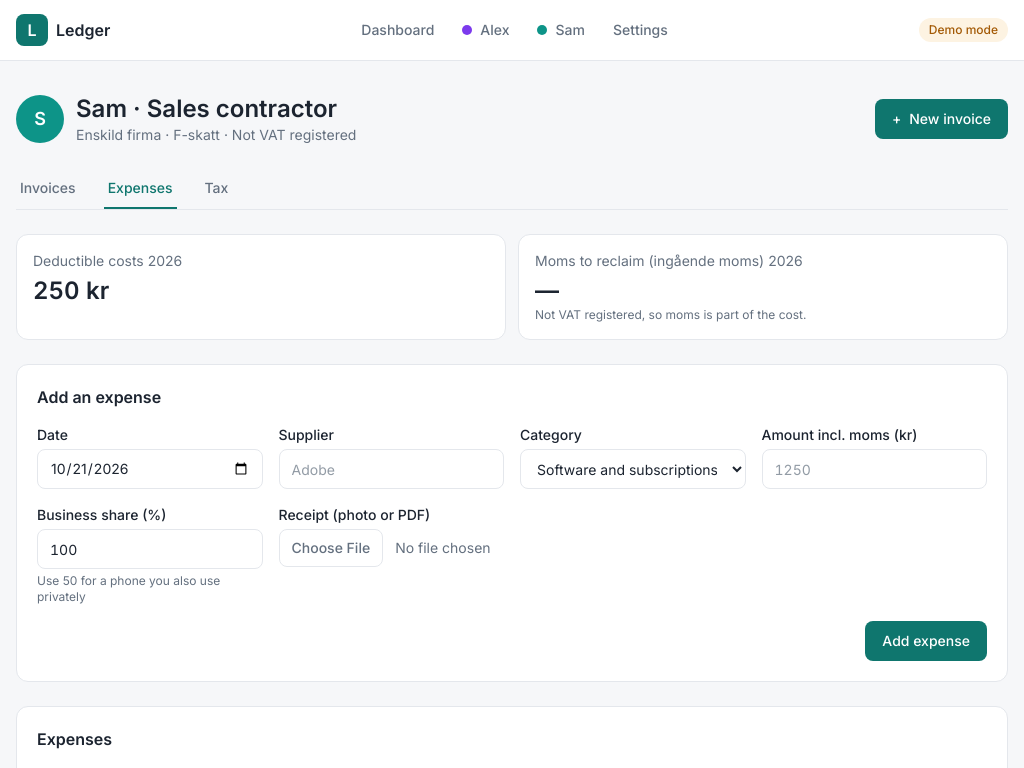
Test: Expenses page › does not reclaim moms for someone who is not VAT registered
Type "Ikea" into the field labelled "Supplier".
click(391, 469); type("Ikea")  # box 278,449 -> 504,489
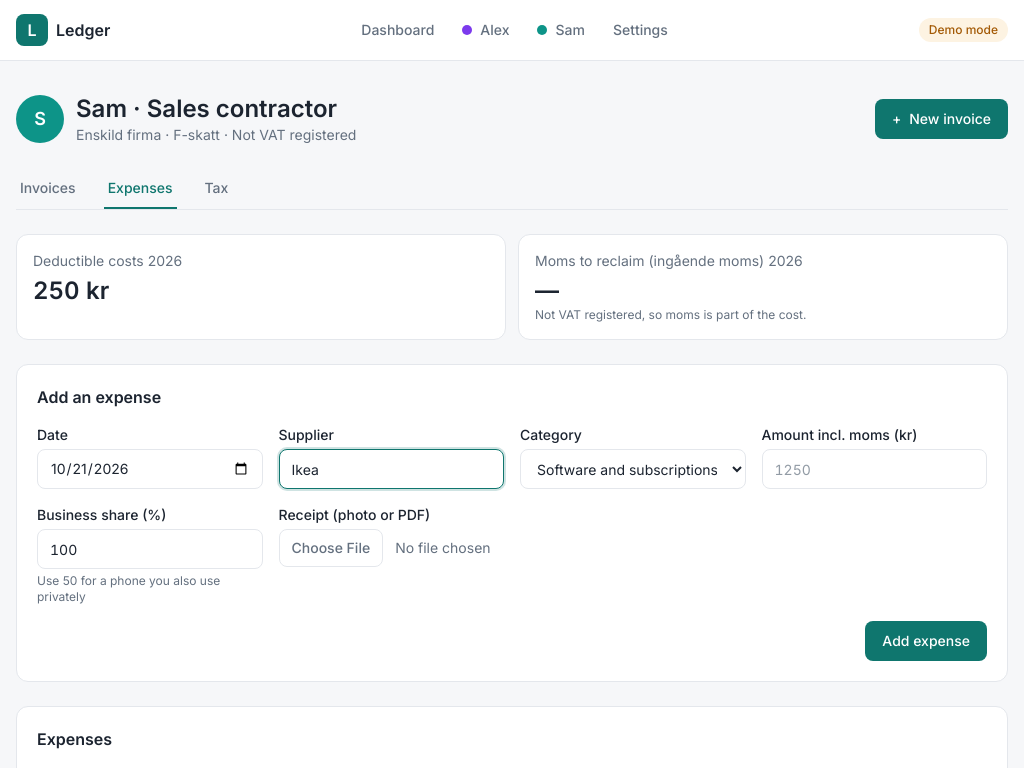
Type "200" into the field labelled "Amount incl. moms (kr)".
click(874, 469); type("200")  # box 762,449 -> 987,489
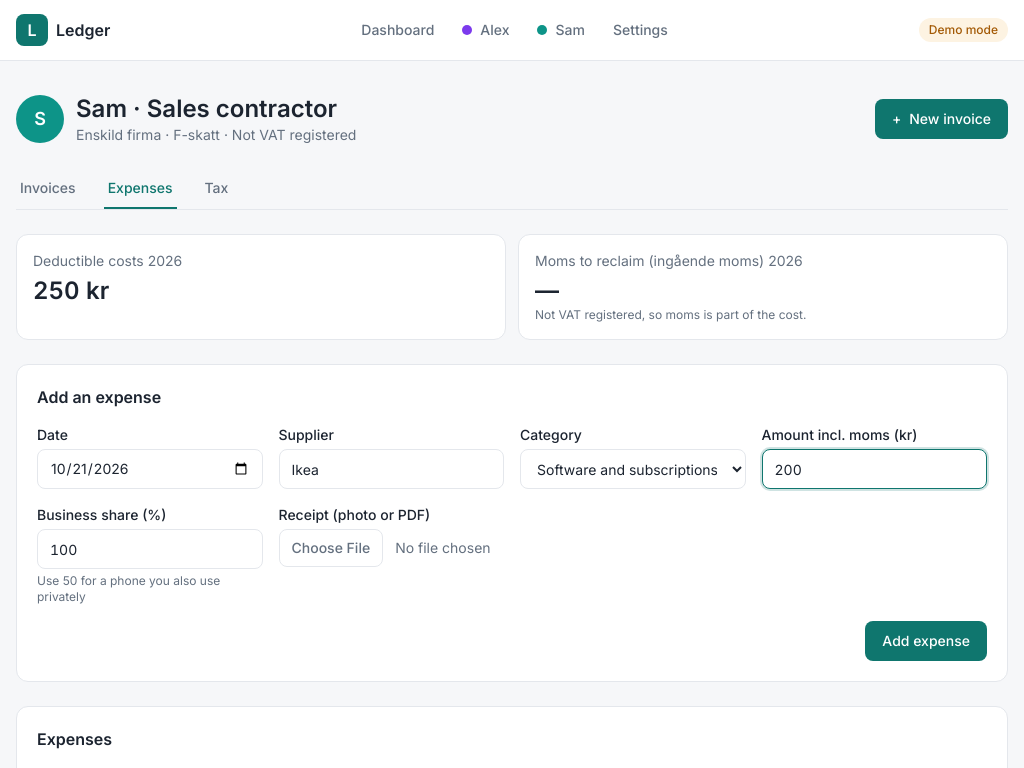
Click the button "Add expense".
click(926, 641)  # box 865,621 -> 987,661
(page scrolled)
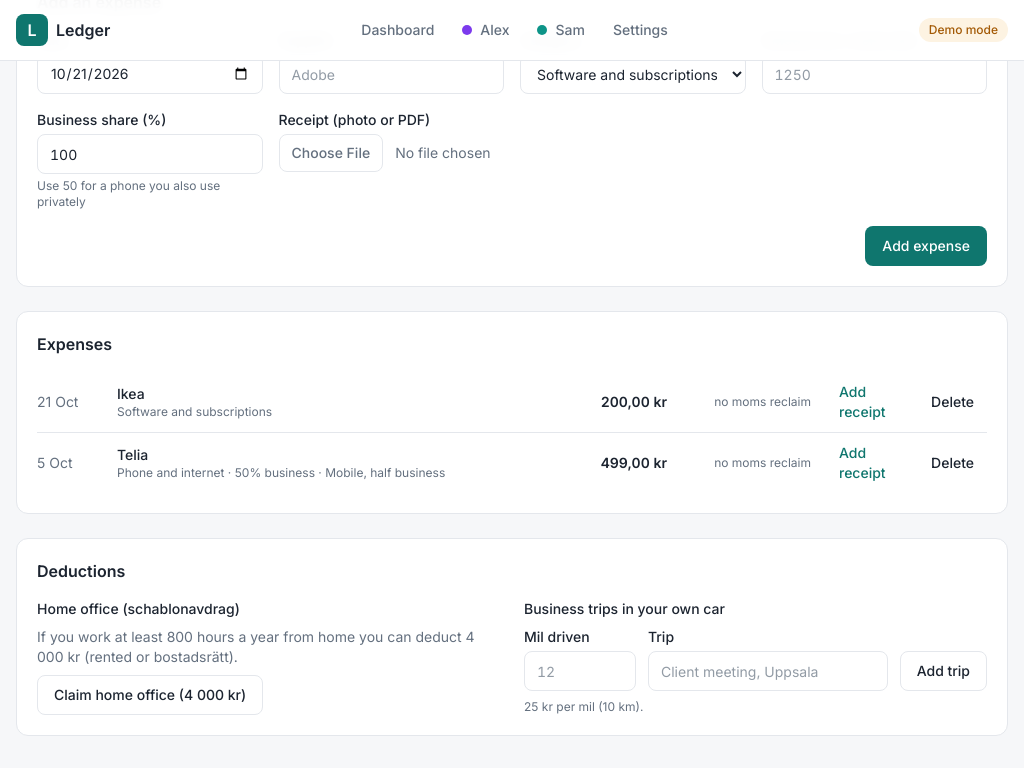
Expected: the list item "Ikea" shows "no moms reclaim", 714,394 -> 811,409
